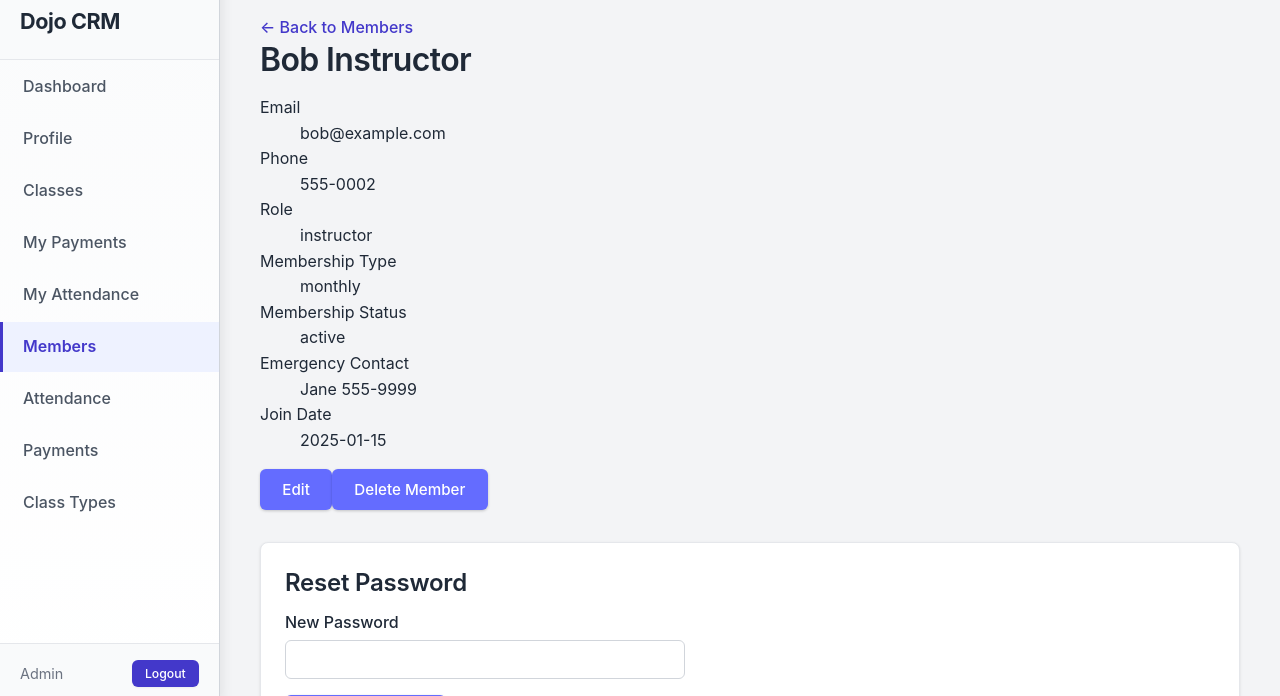
it: MemberDetail › handles password reset
Type "newpassword123" into the password field labelled "New Password". click: (485,659)
box: [285,640,685,679]
(page scrolled)
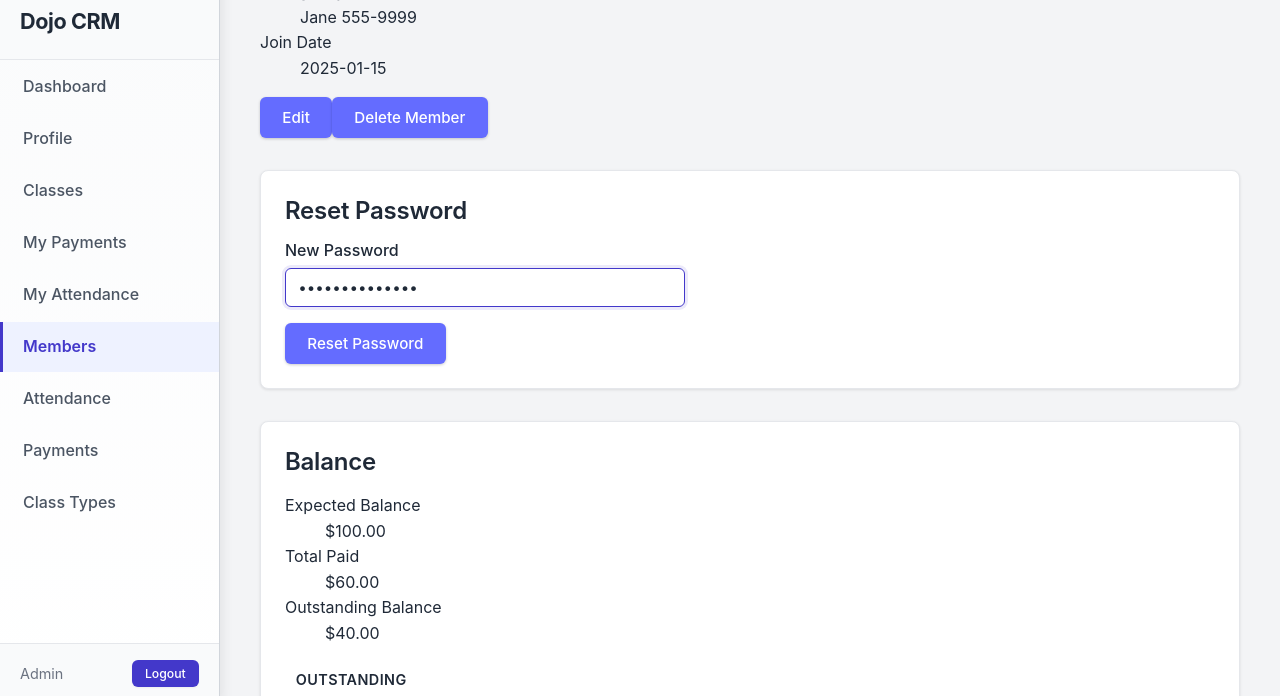
Click the button "Reset Password". click: (365,343)
box: [285,323,446,364]
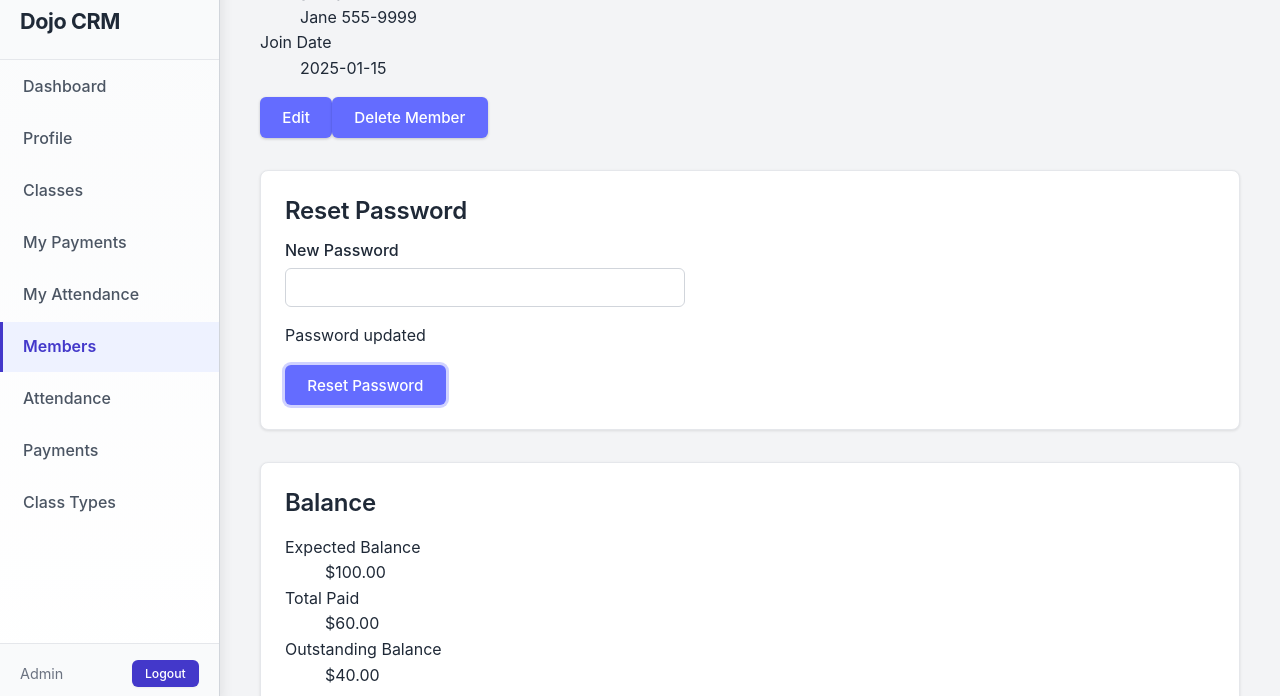
expect the text "Password updated" is shown: met, box [285,325,426,345]
